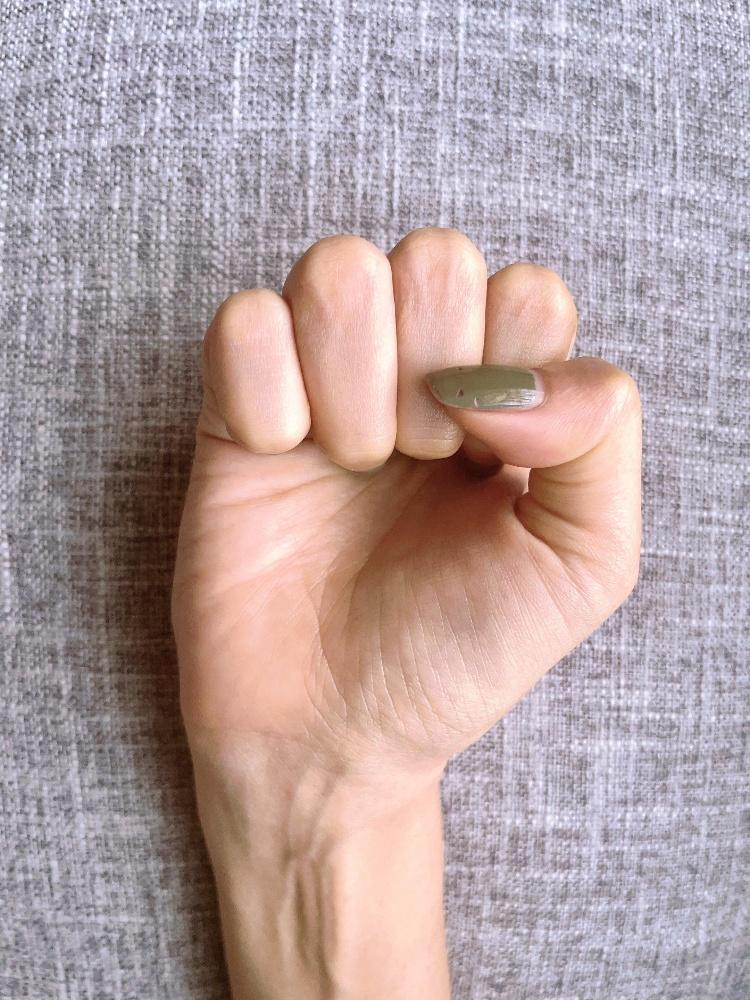s: (167, 225, 648, 767)
